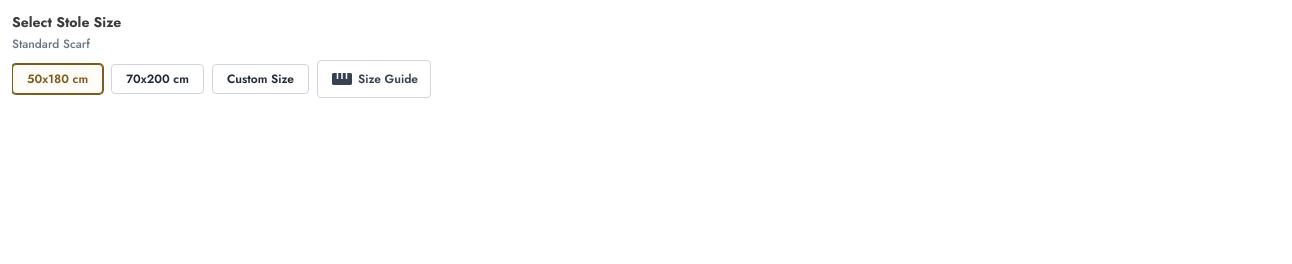
ProductSizeProfile › expands custom size form when Custom Size is clicked
Click the button "Custom Size" at [260, 79], box [212, 64, 309, 94]
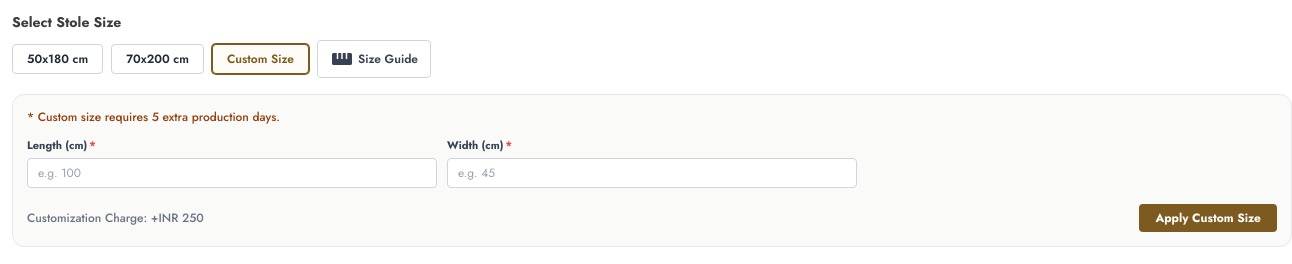
Expected: the text "Length (cm)" is shown, [27, 137, 87, 153]
Expected: the text "Width (cm)" is shown, [447, 137, 504, 153]
Expected: the button "Apply Custom Size" is shown, [1139, 204, 1277, 232]
